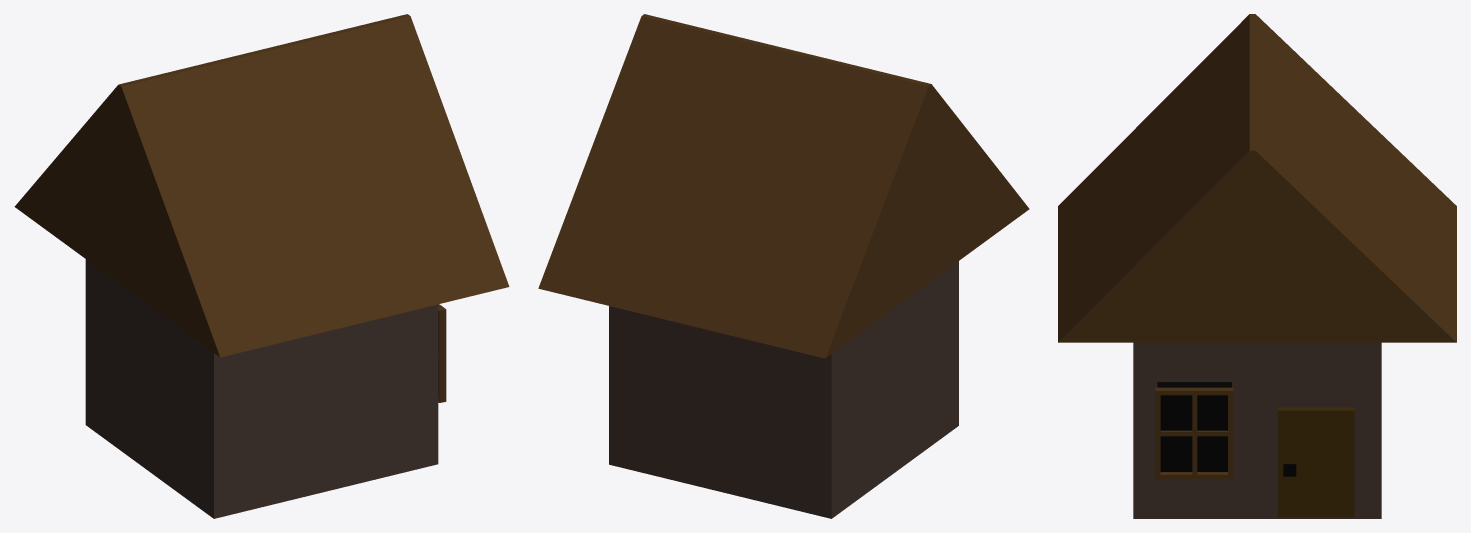
File: dom.glb
3 renders of one model, left to right at view 1: azimuth 30°, elevation 25°; view 2: azimuth 150°, elevation 25°; view 3: azimuth 270°, elevation 25°, orthographic. The views are drawn at different scales.
Parts seen in each view (by area): view 1: Куб.010, Куб, Куб.005; view 2: Куб.010, Куб; view 3: Куб.010, Куб, Куб.001, Куб.003, Куб.006, Куб.005, Куб.004, Куб.008, Куб.007.
Part boxes in pixels (bbox=[...]): Куб.010: bbox=[14, 14, 509, 357]; Куб: bbox=[85, 259, 438, 518]; Куб.005: bbox=[438, 307, 446, 402]; Куб.010: bbox=[538, 14, 1029, 358]; Куб: bbox=[609, 261, 958, 518]; Куб.010: bbox=[1058, 14, 1456, 342]; Куб: bbox=[1133, 342, 1381, 518]; Куб.001: bbox=[1277, 407, 1354, 517]; Куб.003: bbox=[1157, 382, 1231, 471]; Куб.006: bbox=[1157, 387, 1231, 395]; Куб.005: bbox=[1155, 387, 1160, 480]; Куб.004: bbox=[1160, 472, 1227, 479]; Куб.008: bbox=[1192, 395, 1197, 476]; Куб.007: bbox=[1228, 387, 1232, 480].
Size of the model in its own units: 10.26 by 13.43 by 12.65.
